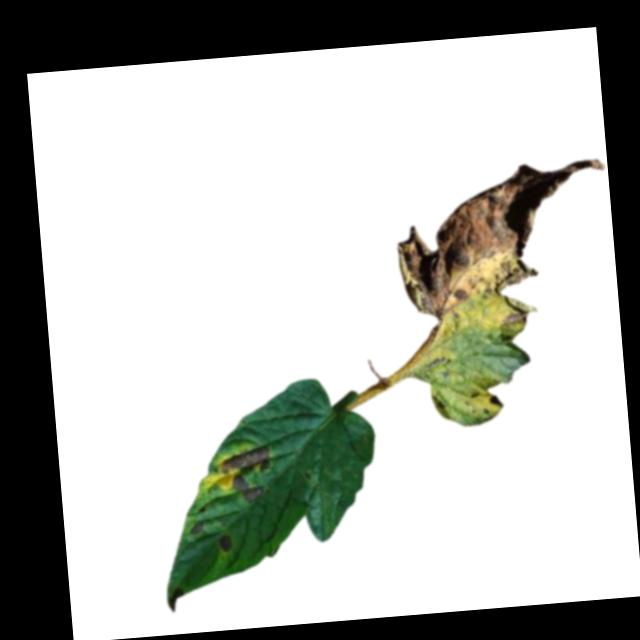Early_blight: (390, 155, 618, 337), (217, 442, 275, 505), (165, 585, 185, 613), (217, 529, 234, 553), (187, 520, 205, 535), (490, 390, 504, 408)
